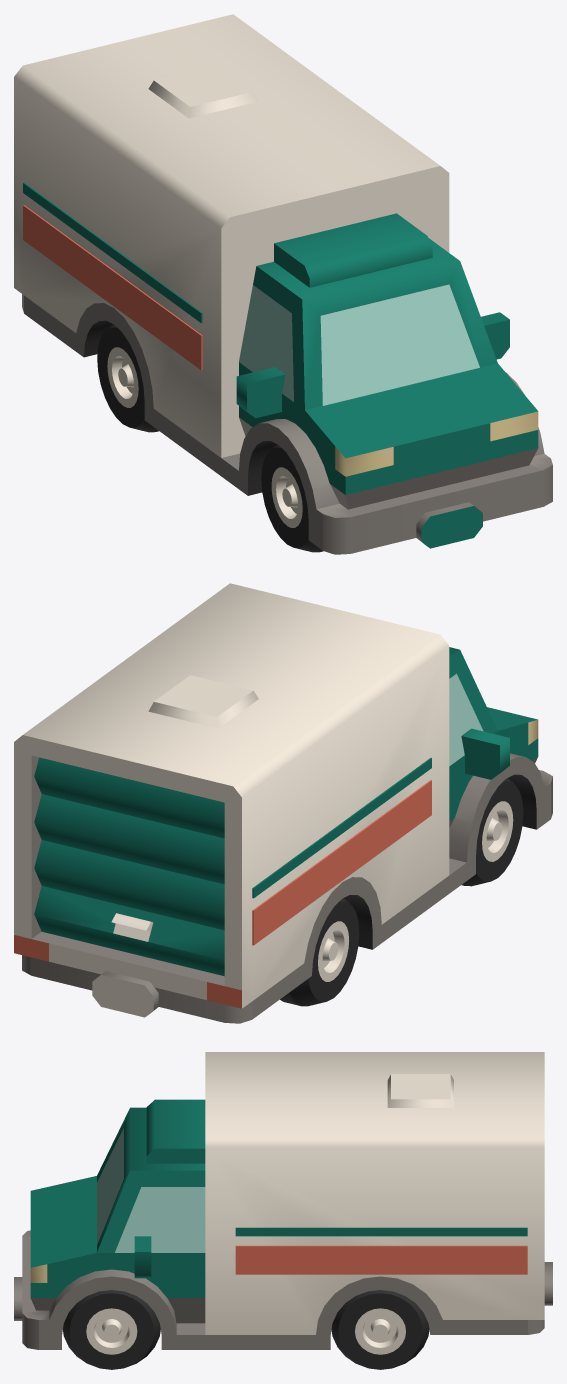
The model's file is truck.glb.
The picture shows the model from 3 angles, top to bottom: view 1: azimuth 30°, elevation 25°; view 2: azimuth 150°, elevation 25°; view 3: azimuth 270°, elevation 25°; orthographic projection. The views are drawn at different scales.
Parts seen in each view (by area): view 1: body, wheel-front-right, wheel-back-right; view 2: body, door, wheel-back-right, wheel-front-right; view 3: body, wheel-back-left, wheel-front-left.
Boxes of the visible parts, <box> form: body: <box>14,14,552,554</box>; wheel-front-right: <box>261,444,323,552</box>; wheel-back-right: <box>97,324,158,432</box>; body: <box>14,583,552,1023</box>; door: <box>34,757,224,976</box>; wheel-back-right: <box>280,898,359,1006</box>; wheel-front-right: <box>461,778,523,886</box>; body: <box>14,1052,552,1349</box>; wheel-back-left: <box>331,1290,429,1369</box>; wheel-front-left: <box>63,1290,160,1369</box>.
Size of the model in its own units: 1.5 by 1.65 by 3.25.
